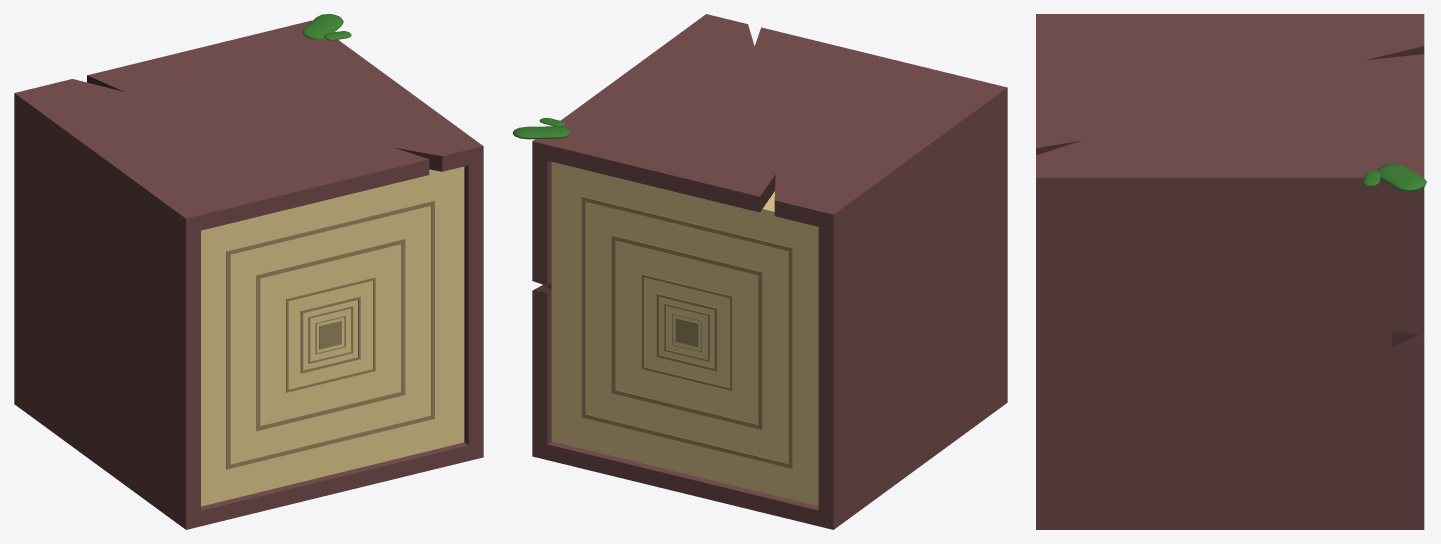
The model's file is log(2).fbx.
The picture shows the model from 3 angles, left to right: view 1: azimuth 30°, elevation 25°; view 2: azimuth 150°, elevation 25°; view 3: azimuth 270°, elevation 25°; orthographic projection. The views are drawn at different scales.
Parts seen in each view (by area): view 1: 큐브_2_7, 큐브, 큐브_1_7, 큐브_1_6, 큐브_1_8, 큐브_1_5, 큐브_1_4, 캡슐, 큐브_1; view 2: 큐브_2_7, 큐브, 큐브_1_7, 큐브_1_6, 큐브_1_8, 큐브_1_5, 큐브_1_4, 캡슐, 큐브_1; view 3: 큐브_2_7, 캡슐, 큐브_4.
Part boxes in pixels (<box>): 큐브_2_7: <box>14,20,483,529</box>; 큐브: <box>201,166,464,506</box>; 큐브_1_7: <box>226,200,434,469</box>; 큐브_1_6: <box>256,239,405,430</box>; 큐브_1_8: <box>201,165,468,510</box>; 큐브_1_5: <box>286,277,375,392</box>; 큐브_1_4: <box>300,296,360,373</box>; 캡슐: <box>302,14,343,39</box>; 큐브_1: <box>319,320,341,349</box>; 큐브_2_7: <box>532,14,1007,529</box>; 큐브: <box>551,162,818,506</box>; 큐브_1_7: <box>581,196,792,468</box>; 큐브_1_6: <box>611,235,762,429</box>; 큐브_1_8: <box>547,160,818,510</box>; 큐브_1_5: <box>641,274,732,390</box>; 큐브_1_4: <box>656,293,717,371</box>; 캡슐: <box>512,126,570,139</box>; 큐브_1: <box>675,318,698,347</box>; 큐브_2_7: <box>1036,14,1424,529</box>; 캡슐: <box>1377,164,1426,191</box>; 큐브_4: <box>1392,331,1424,347</box>.
Bounding box in the file's own units: 216 × 203 × 201.
